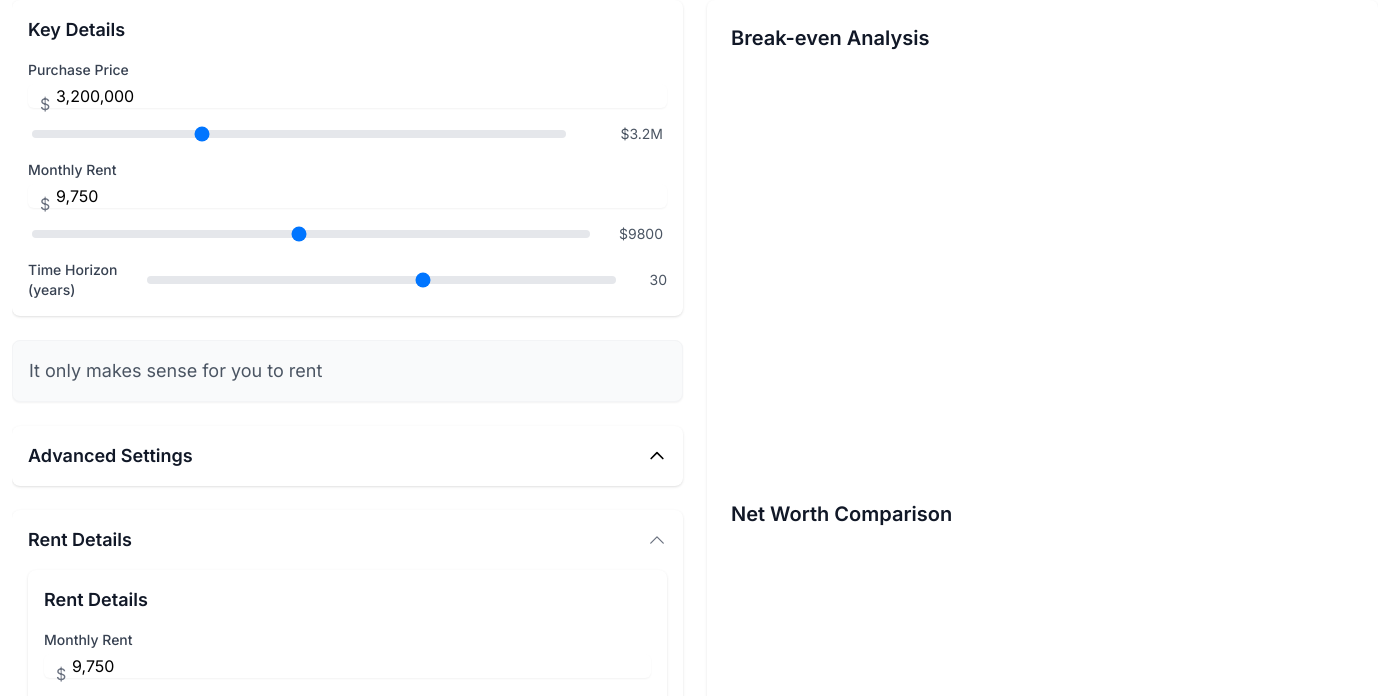
Test: Calculator › maintains independent state for rent and buy sections
// Change rent value
Step 1. Replace the text in the field labelled "Monthly Rent" with "2500" → (348, 196), box [28,184,667,208]
(page scrolled)
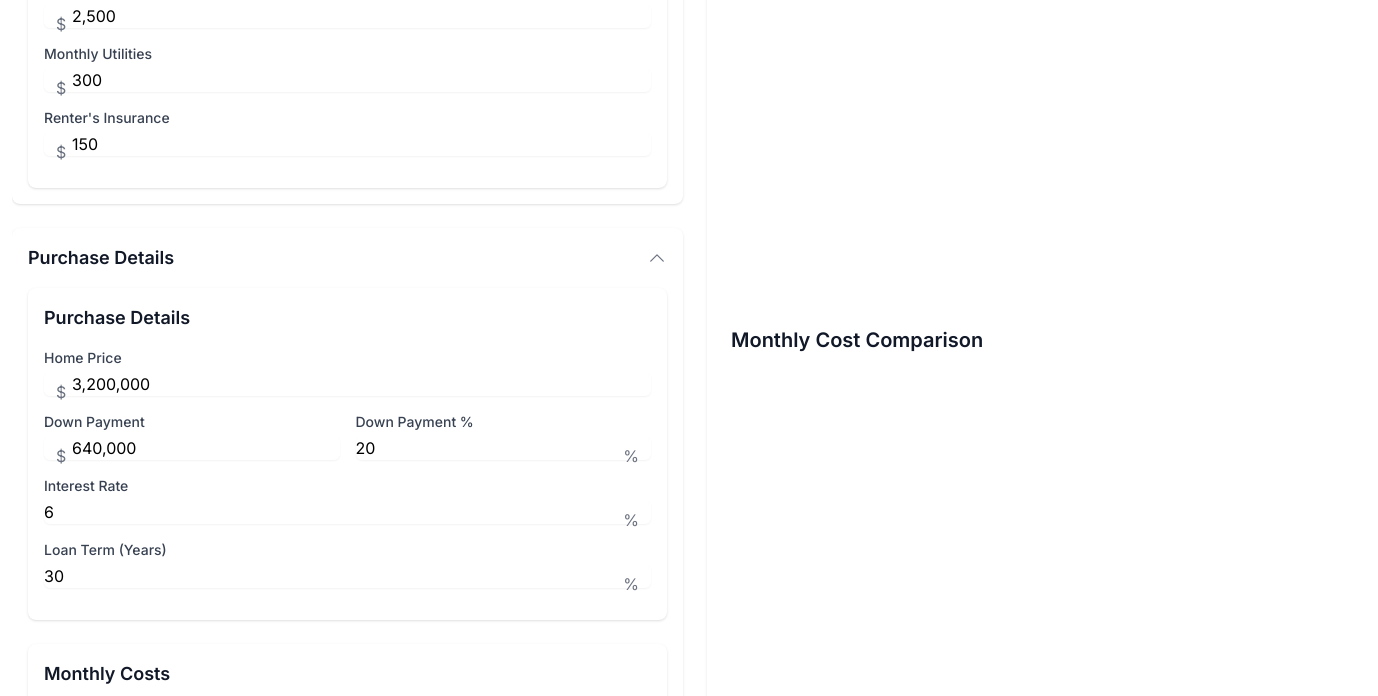
// Change buy value
Step 2. Replace the text in the field labelled "Home Price" with "450000" → (348, 384), box [44,372,651,396]
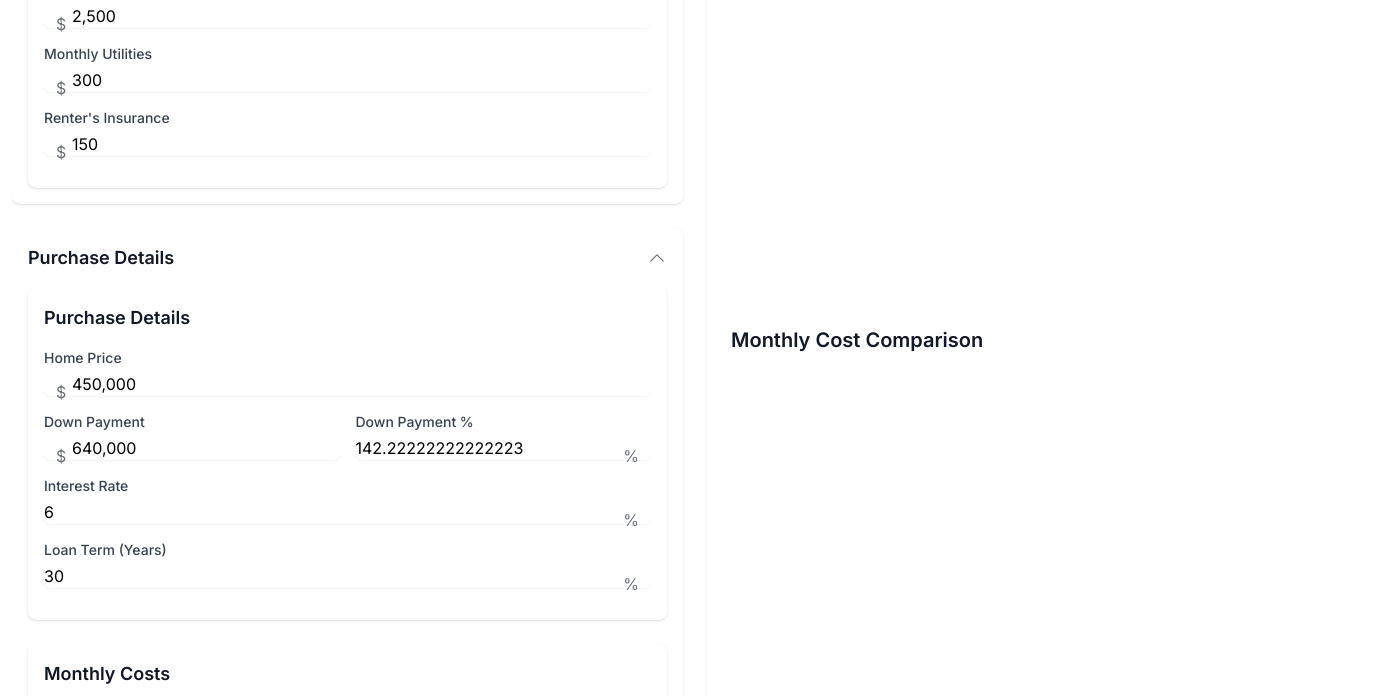
Result: the field labelled "Home Price" holds "450,000" at [44,372,651,396]
